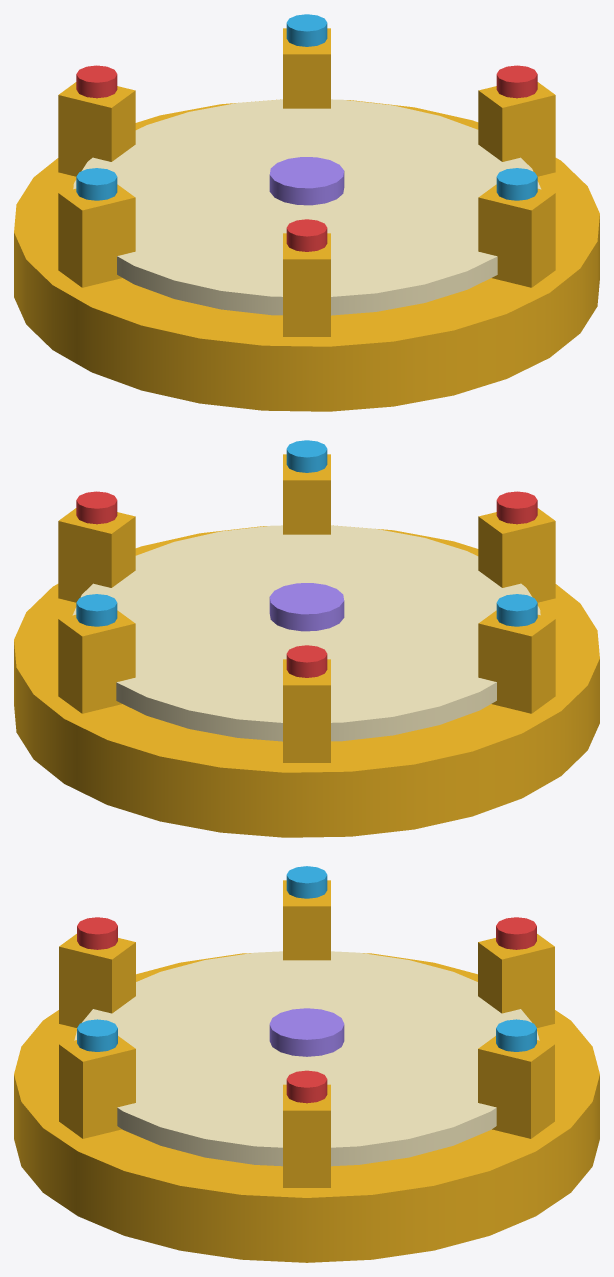
The model's file is toy_castle_crown_platform.glb.
3 renders of one model, top to bottom at view 1: azimuth 30°, elevation 25°; view 2: azimuth 150°, elevation 25°; view 3: azimuth 270°, elevation 25°, orthographic.
Visible parts, largest first — view 1: solid_2, solid_1, solid_9, solid_5, solid_3, solid_11, solid_7, solid_13, solid_15, solid_4, solid_6, solid_10 (+3 smaller); view 2: solid_2, solid_1, solid_9, solid_13, solid_3, solid_7, solid_11, solid_5, solid_15, solid_4, solid_8, solid_10 (+3 smaller); view 3: solid_2, solid_1, solid_5, solid_13, solid_7, solid_11, solid_3, solid_9, solid_15, solid_4, solid_10, solid_8 (+3 smaller).
Part boxes in pixels (x1,y1,x2,y2): solid_2: [73, 99, 541, 315]; solid_1: [14, 99, 599, 411]; solid_9: [58, 184, 135, 287]; solid_5: [478, 184, 555, 287]; solid_3: [478, 82, 555, 176]; solid_11: [58, 82, 135, 176]; solid_7: [283, 233, 330, 336]; solid_13: [283, 28, 330, 108]; solid_15: [269, 157, 344, 205]; solid_4: [496, 65, 537, 98]; solid_6: [496, 168, 537, 200]; solid_10: [76, 168, 117, 200]; solid_2: [72, 525, 540, 741]; solid_1: [14, 525, 599, 837]; solid_9: [478, 610, 555, 713]; solid_13: [58, 610, 135, 713]; solid_3: [58, 508, 135, 602]; solid_7: [478, 508, 555, 602]; solid_11: [283, 659, 330, 762]; solid_5: [283, 454, 330, 534]; solid_15: [269, 583, 344, 631]; solid_4: [76, 491, 117, 524]; solid_8: [496, 491, 537, 524]; solid_10: [496, 594, 537, 626]; solid_2: [74, 951, 539, 1166]; solid_1: [14, 953, 599, 1262]; solid_5: [59, 1036, 135, 1138]; solid_13: [478, 1036, 554, 1138]; solid_7: [59, 934, 135, 1027]; solid_11: [478, 934, 554, 1027]; solid_3: [283, 1084, 330, 1187]; solid_9: [283, 880, 330, 960]; solid_15: [269, 1008, 344, 1056]; solid_4: [286, 1070, 327, 1103]; solid_10: [286, 866, 327, 898]; solid_8: [77, 917, 117, 949].
Size of the model in its own units: 3.44 by 1.05 by 3.44.
